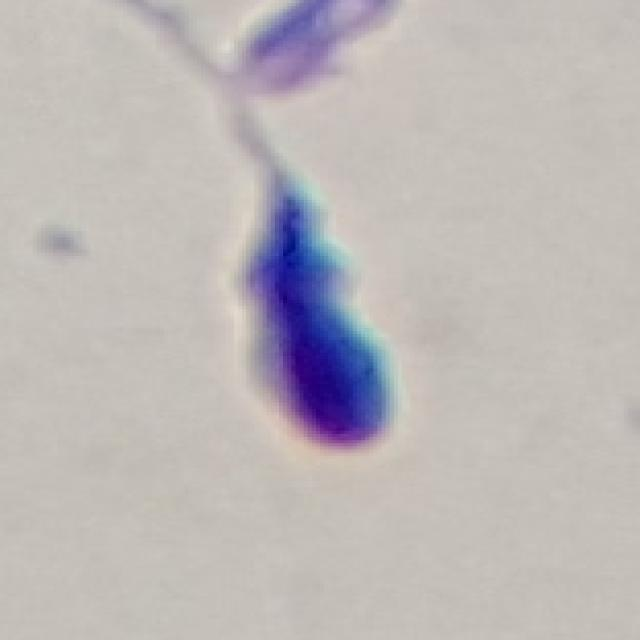abnormal sperm: (216, 74, 399, 453)
